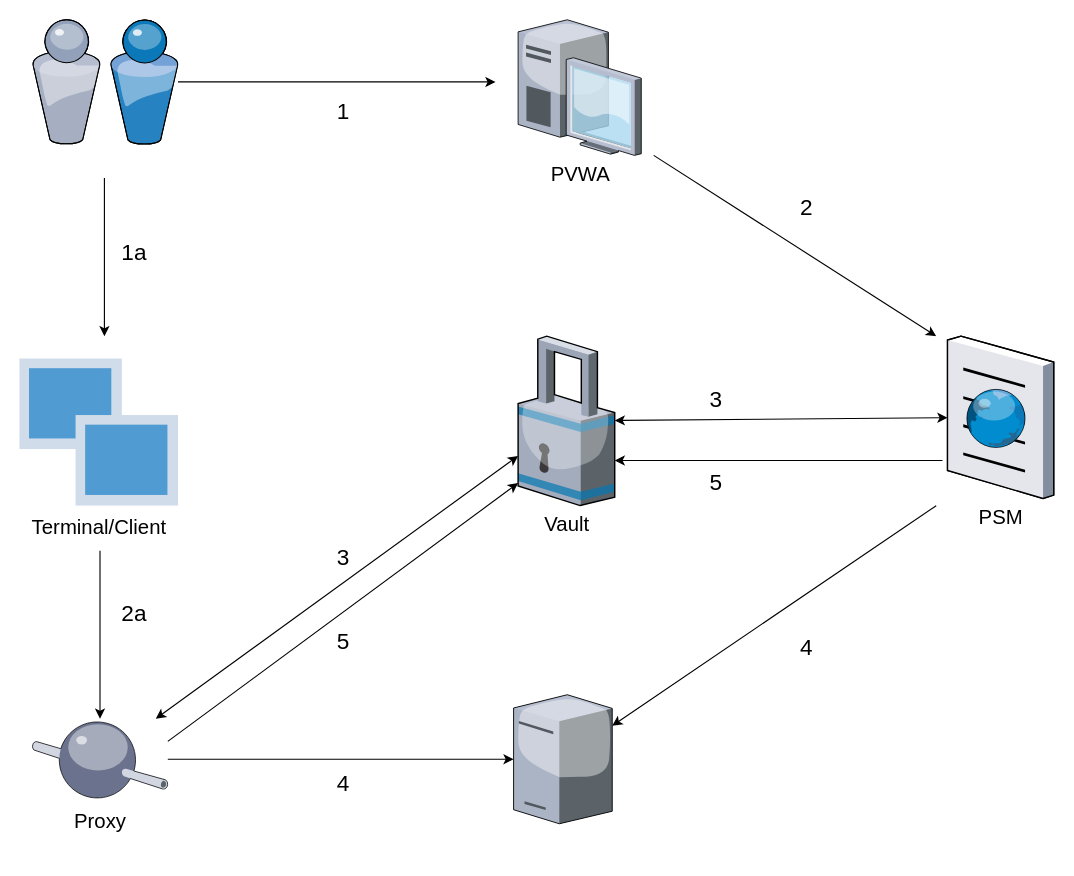
Some shapes in this 1074 by 876 pixel diagram are drawn without their labels. Each missing label, with the centre of its shape:
"Target Application/Server" belongs at (562,758).
"User" belongs at (104,81).
